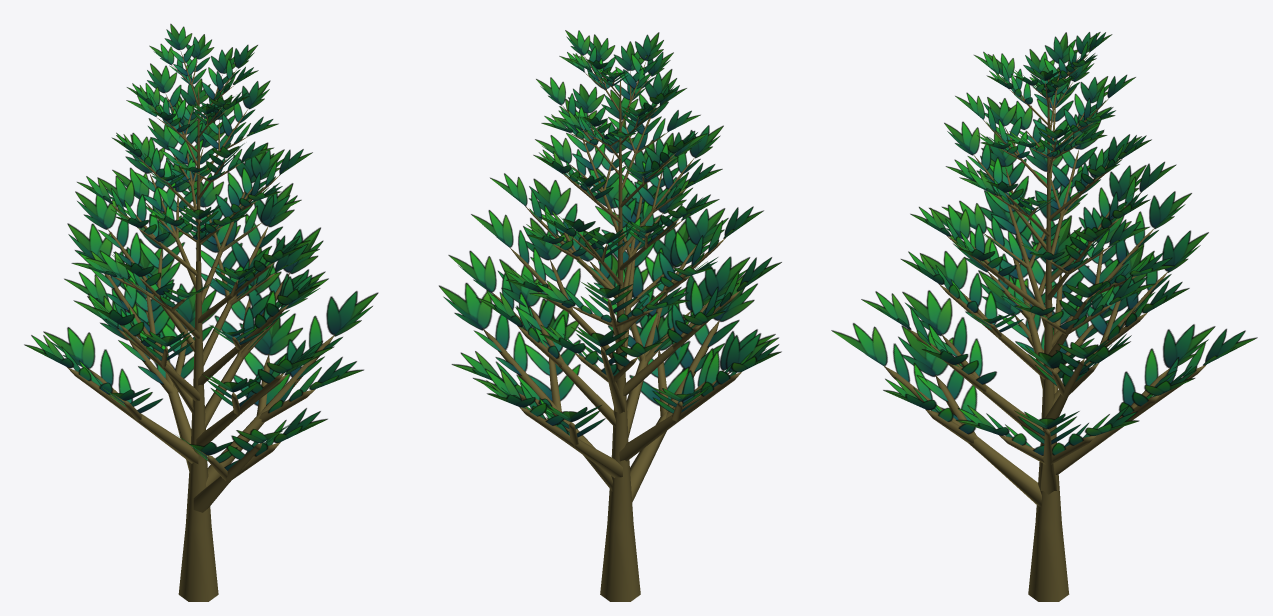
Rendered from poplar-green.glb.
3 views of the same model, side by side, from view 1: azimuth 30°, elevation 25°; view 2: azimuth 150°, elevation 25°; view 3: azimuth 270°, elevation 25° (orthographic). The views are drawn at different scales.
Parts seen in each view (by area): view 1: leaf, bark; view 2: leaf, bark; view 3: leaf, bark.
Part boxes in pixels (bbox=[...]): leaf: bbox=[24, 23, 378, 470]; bark: bbox=[67, 51, 334, 601]; leaf: bbox=[439, 30, 781, 437]; bark: bbox=[482, 56, 741, 601]; leaf: bbox=[831, 32, 1257, 455]; bark: bbox=[884, 53, 1205, 601].
Size of the model in its own units: 2.61 by 3.98 by 2.71.
Materials: 2 (1 with a texture image).
